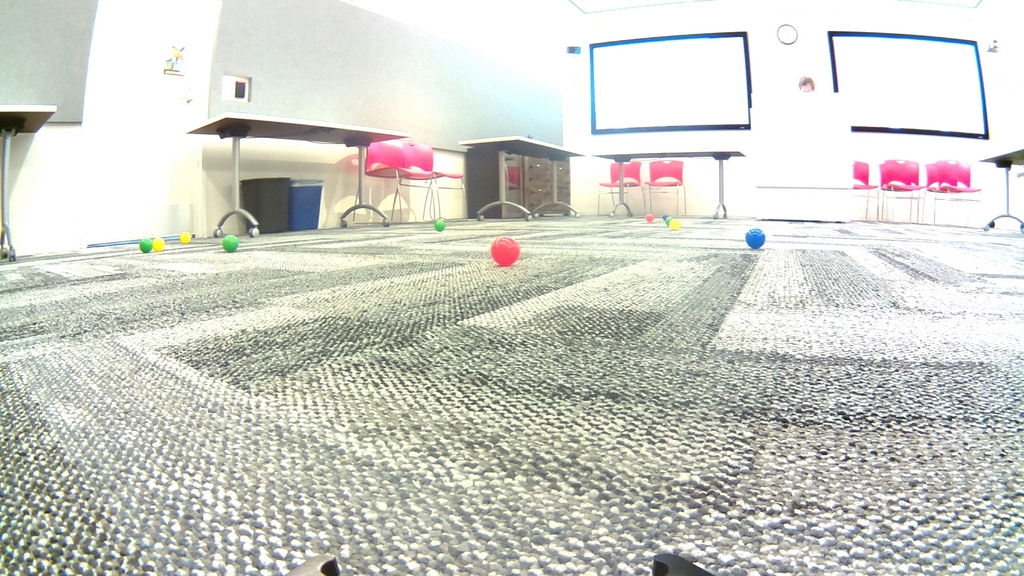ball: (152, 236, 165, 252)
